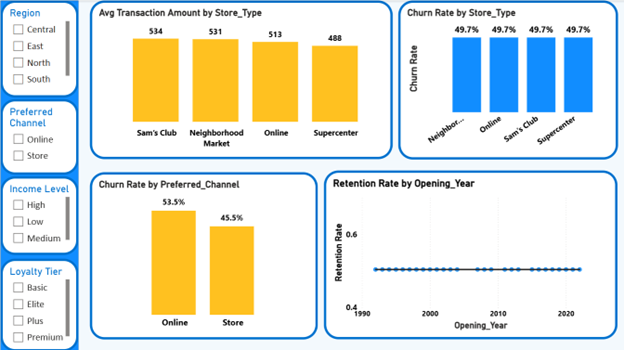

What the dashboard file says about the page in this screenshot:
{"tool":"powerbi","page":{"name":"Store/Channel Insights","canvas":[1280,720],"ordinal":2},"visuals":[{"type":"clusteredColumnChart","title":"Avg Transaction Amount by Store_Type","fields":{"Y":["Avg(Customer_Transactions.Amount)"],"Category":["Customer_Transactions.Store_Type"]},"box":[183.3,0,621.1,325.7],"z":0},{"type":"columnChart","fields":{"Category":["Customer_Transactions.Store_Type"],"Y":["Measures (2).Churn Rate"]},"box":[815.2,0,450.1,326.1],"z":1000},{"type":"lineStackedColumnComboChart","fields":{"Y":["Measures (2).Churn Rate"],"Category":["Customer_Demographics.Preferred_Channel"]},"box":[183.2,352,467.5,343.4],"z":2000},{"type":"scatterChart","fields":{"X":["Customer_Transactions.Opening_Year"],"Y":["Measures (2).Retention Rate"]},"box":[663.7,349.1,601.6,346.3],"z":3000},{"type":"shape","box":[0,0,160.2,720.8],"z":4000},{"type":"slicer","title":"Region","fields":{"Values":["Customer_Demographics.Region"]},"box":[0,0,160.2,199.3],"z":5000},{"type":"slicer","title":"Preferred Channel","fields":{"Values":["Customer_Demographics.Preferred_Channel"]},"box":[0,202.9,160.2,154.8],"z":6000},{"type":"slicer","title":"Income Level","fields":{"Values":["Customer_Demographics.Income_Level"]},"box":[0,361.3,160.2,162],"z":7000},{"type":"slicer","title":"Loyalty Tier","fields":{"Values":["Loyalty_Program.Loyalty_Tier"]},"box":[0,529.6,160.2,190.4],"z":8000}]}

Visuals, with their boxes in screenshot pixels (x1, y1, x2, y2), scaled from the page's 1280x720 canvas onto the 624x350 screenshot:
"Avg Transaction Amount by Store_Type" clusteredColumnChart: <box>89,0,392,158</box>
columnChart - Customer_Transactions.Store_Type x Measures (2).Churn Rate: <box>397,0,617,159</box>
lineStackedColumnComboChart - Measures (2).Churn Rate x Customer_Demographics.Preferred_Channel: <box>89,171,317,338</box>
scatterChart - Customer_Transactions.Opening_Year x Measures (2).Retention Rate: <box>324,170,617,338</box>
shape: <box>0,0,78,349</box>
"Region" slicer: <box>0,0,78,97</box>
"Preferred Channel" slicer: <box>0,99,78,174</box>
"Income Level" slicer: <box>0,176,78,254</box>
"Loyalty Tier" slicer: <box>0,257,78,349</box>
